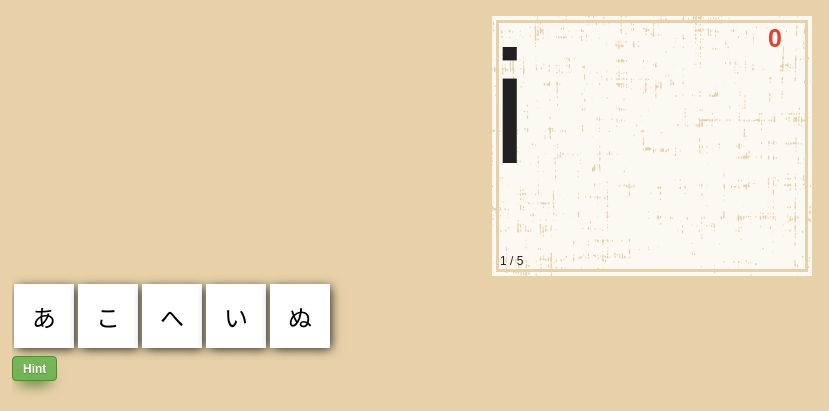
Test: Game page › hides one wrong answer and disables the hint afterwards
Click the button "Hint" at (35, 368), box [12,356,57,381]
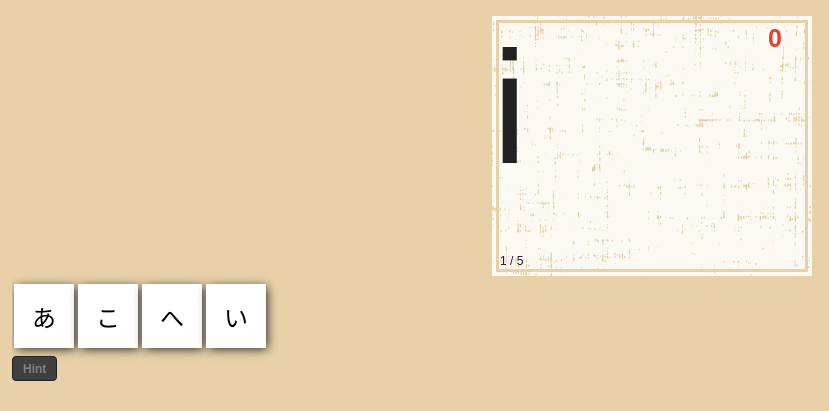
Expected: the button "Hint" is disabled, [12,356,57,381]
